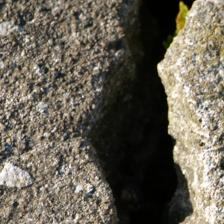Crack: (38, 2, 170, 222)
